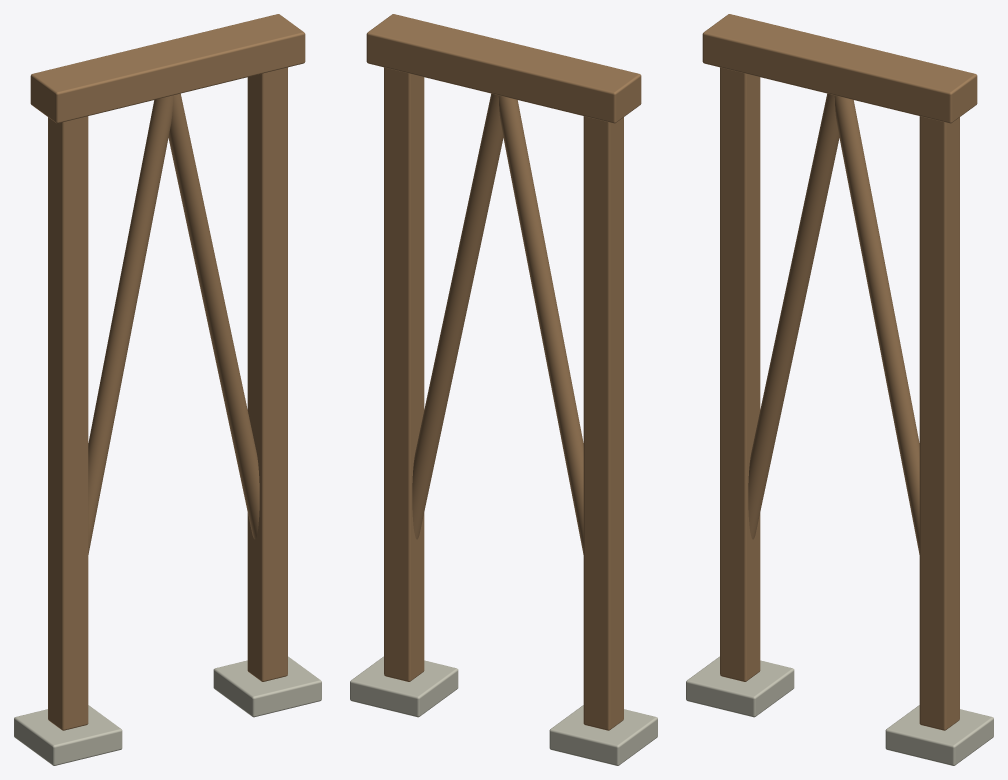
File: launder-support-bent.glb
3 renders of one model, left to right at view 1: azimuth 30°, elevation 25°; view 2: azimuth 150°, elevation 25°; view 3: azimuth 330°, elevation 25°, orthographic.
Visible parts, largest first — view 1: launder-support-bent; view 2: launder-support-bent; view 3: launder-support-bent.
Part boxes in pixels (left/top/right/bottom): launder-support-bent: left=14, top=14, right=321, bottom=765; launder-support-bent: left=350, top=14, right=657, bottom=765; launder-support-bent: left=686, top=14, right=993, bottom=765.
Size of the model in its own units: 1.62 by 3.83 by 0.4201.
